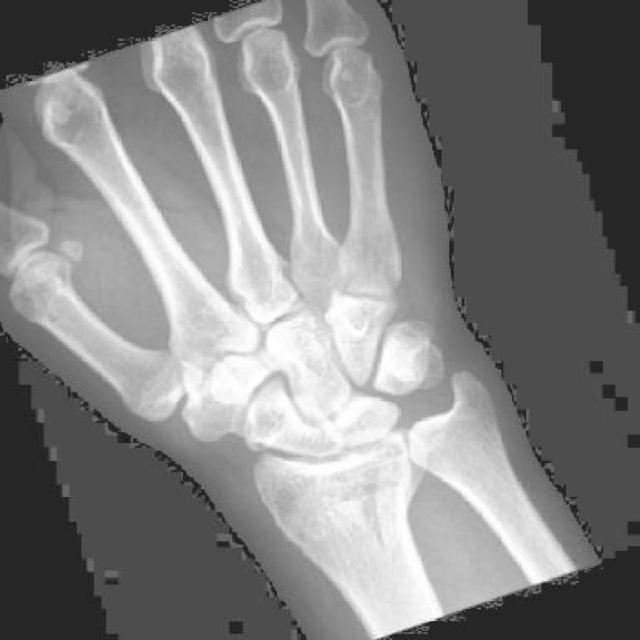Fracture: (253, 437, 439, 565)
